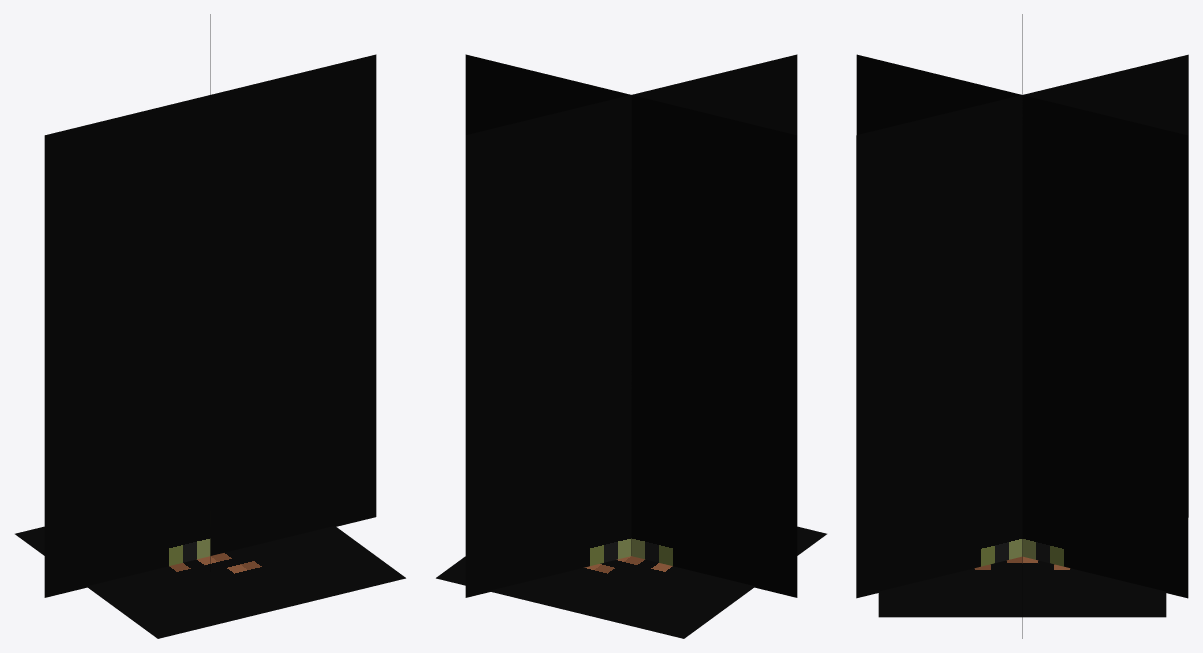
Rendered from rose_seed.gltf.
3 renders of one model, left to right at view 1: azimuth 30°, elevation 25°; view 2: azimuth 150°, elevation 25°; view 3: azimuth 270°, elevation 25°, orthographic.
Parts seen in each view (by area): view 1: Plane.205; view 2: Plane.205; view 3: Plane.205.
Part boxes in pixels (box(x1,y1,x2,y2)): Plane.205: box(15, 14, 405, 638); Plane.205: box(436, 54, 826, 638); Plane.205: box(856, 14, 1188, 638).
Bounding box in the file's own units: 2.4 × 3.2 × 2.08.
Materials: 2 (2 with a texture image).
